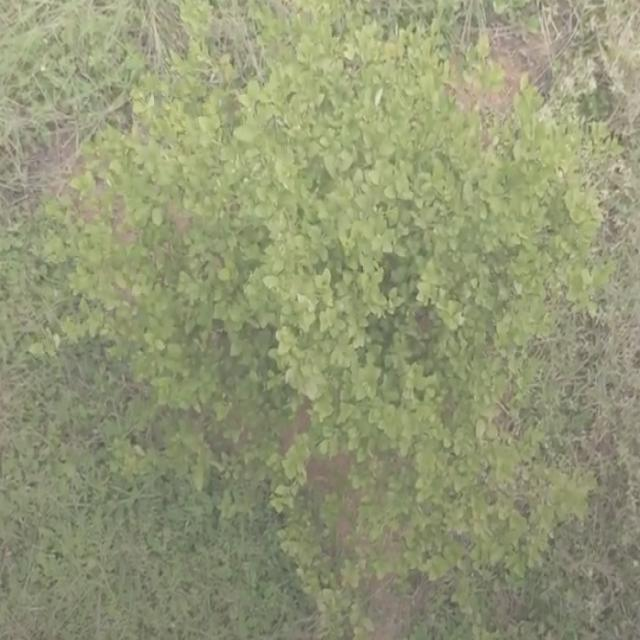notMangoTree: (48, 0, 602, 639)
